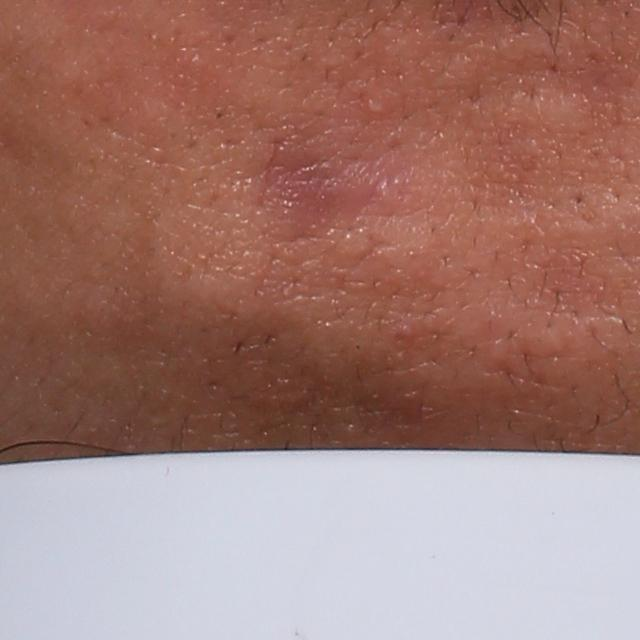hypertrophic_scar: (137, 213, 345, 343), (496, 70, 597, 135)
